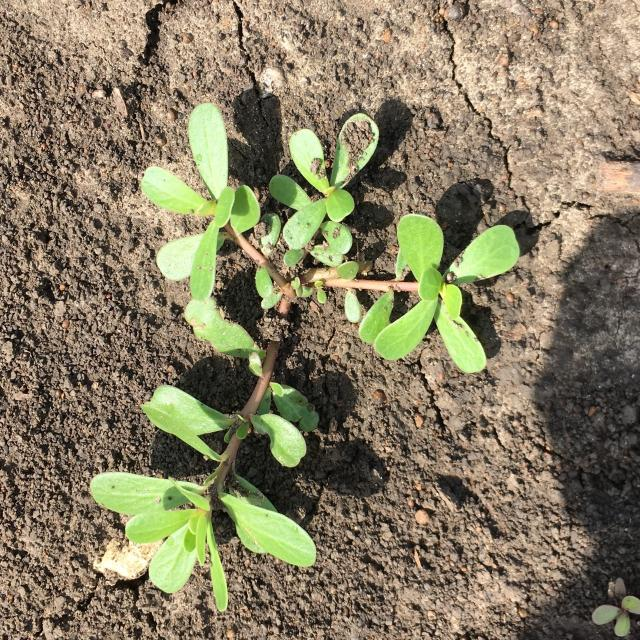Purslane: (89, 102, 520, 612)
